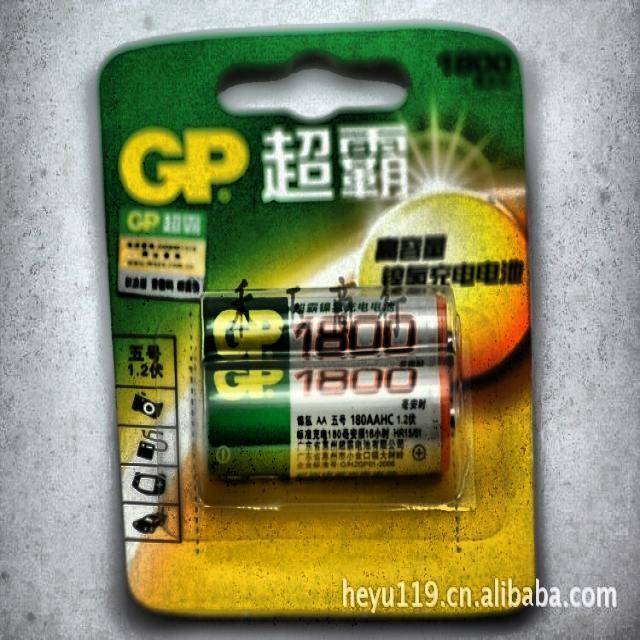battery: (204, 292, 455, 478)
